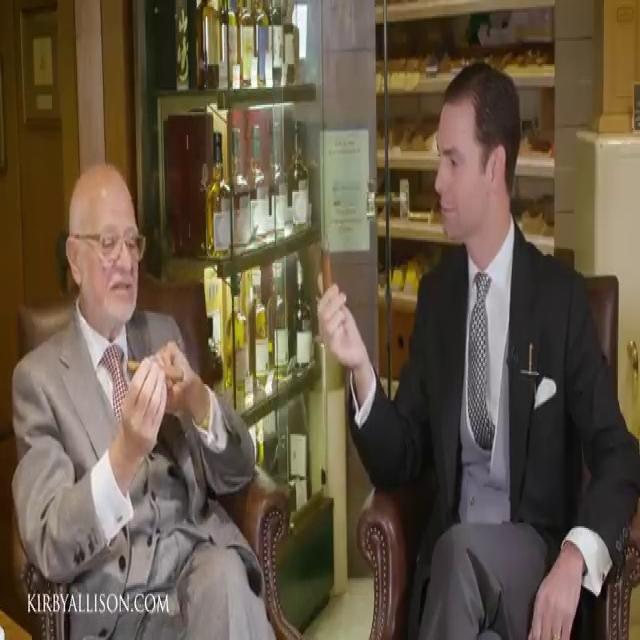Smooking: (118, 352, 187, 396)
